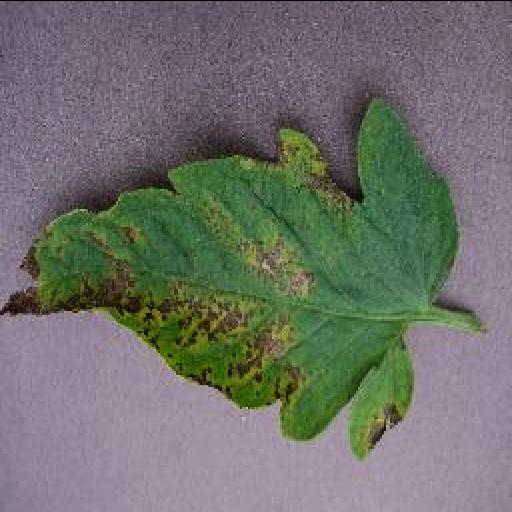disease_tomato: (0, 86, 460, 452)
